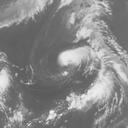cyclone: (58, 43, 92, 70)
